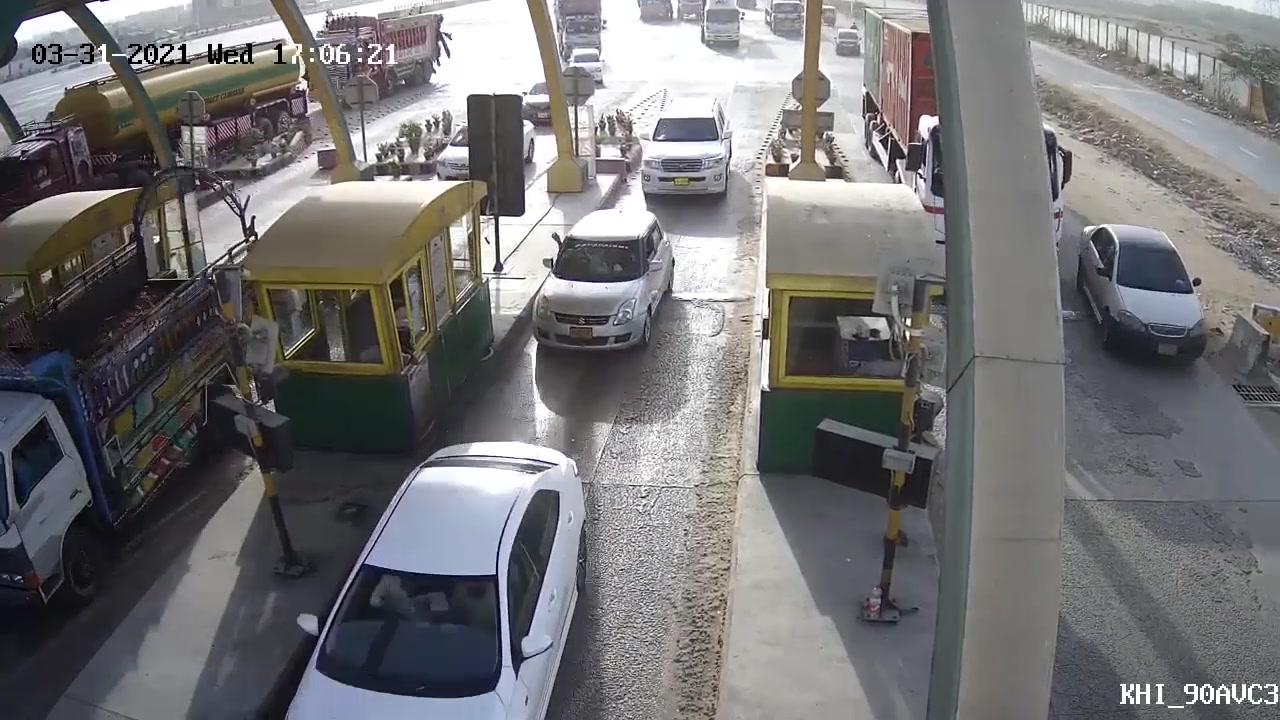F1: (504, 203, 673, 377), (636, 85, 741, 209)
